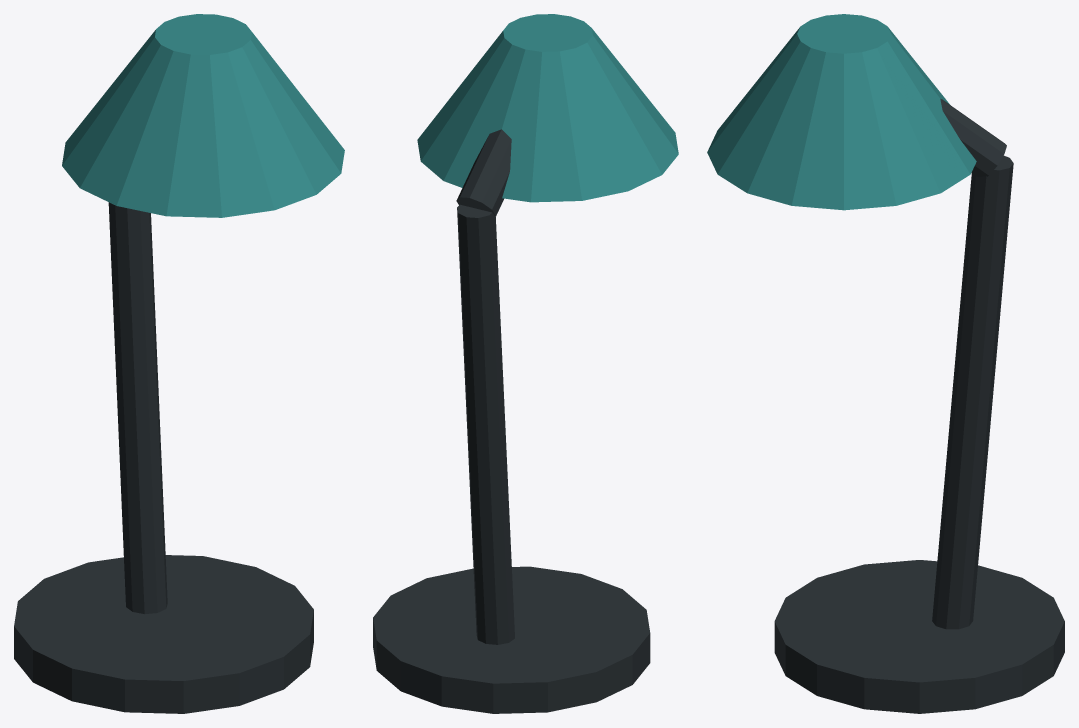
Rendered from desk_lamp.glb.
The picture shows the model from 3 angles, left to right: view 1: azimuth 30°, elevation 25°; view 2: azimuth 150°, elevation 25°; view 3: azimuth 270°, elevation 25°; orthographic projection. The views are drawn at different scales.
Visible parts, largest first — view 1: lamp_structure, lamp_shade; view 2: lamp_structure, lamp_shade; view 3: lamp_structure, lamp_shade.
Part boxes in pixels (x1,y1,x2,y2): lamp_structure: (14,202,313,713); lamp_shade: (62,14,344,217); lamp_structure: (373,129,650,713); lamp_shade: (417,14,678,202); lamp_structure: (774,99,1064,713); lamp_shade: (707,14,976,210).
Size of the model in its own units: 0.142 by 0.334 by 0.175.
